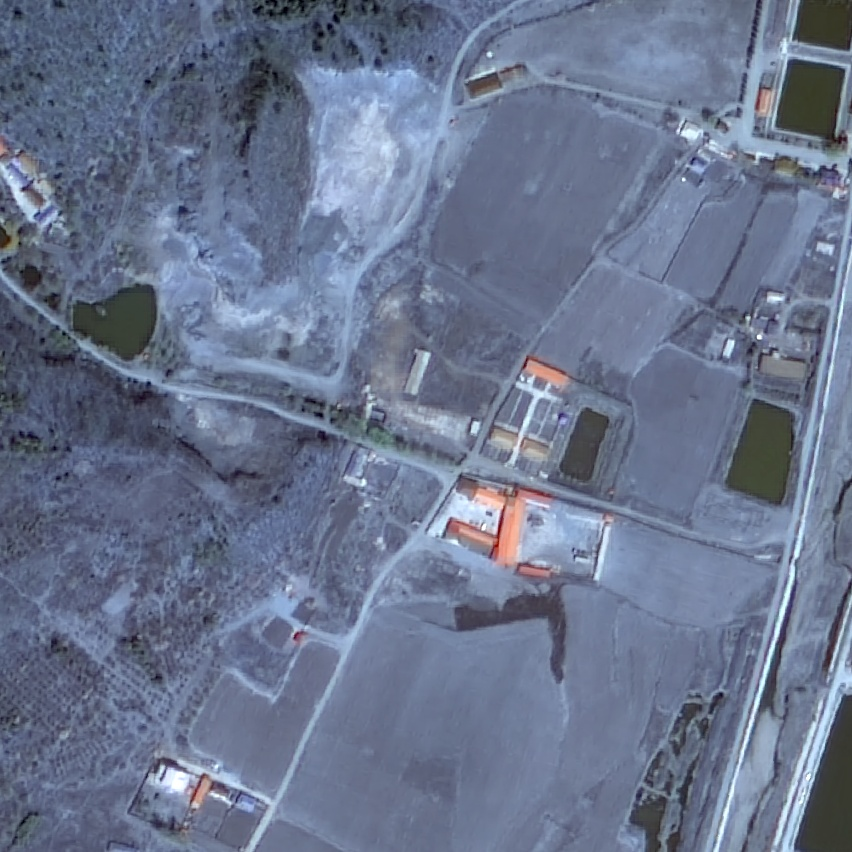slope: (285, 55, 443, 249)
